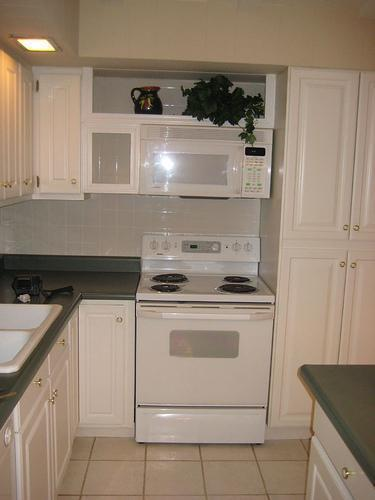Lavaplatos: (0, 293, 66, 378)
